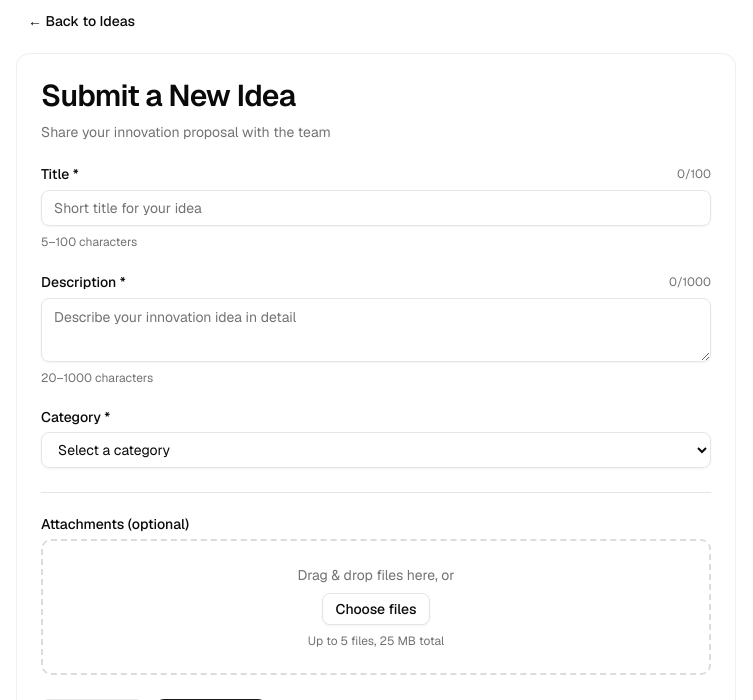
Test: NewIdeaPage dynamic category form › replaces old fields when category is changed
Step 1. Select "Cost Reduction" in the dropdown labelled "Category *" → (376, 450), box [41, 432, 711, 468]
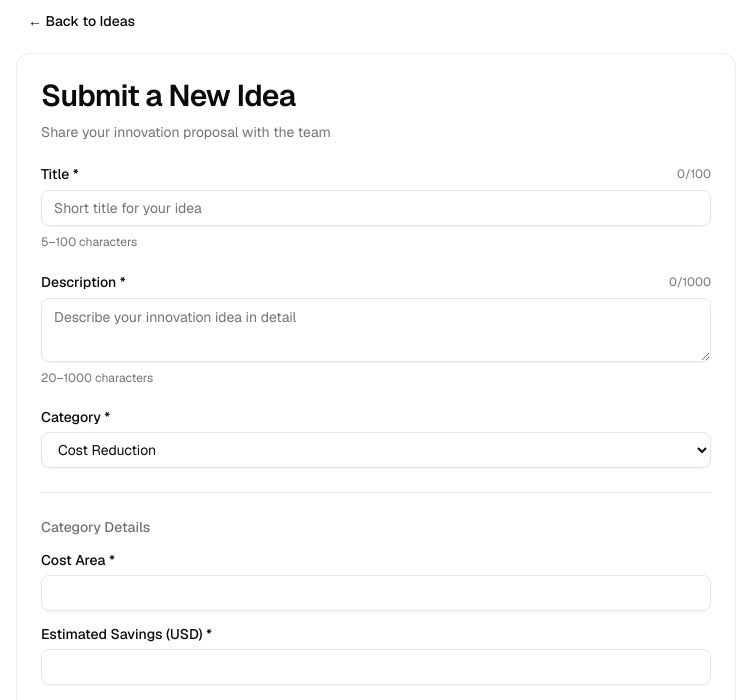
Now the number field labelled "Estimated Savings (USD) *" is shown, box [41, 649, 711, 685]
Step 2. Select "Technology Innovation" in the dropdown labelled "Category *" → (376, 450), box [41, 432, 711, 468]
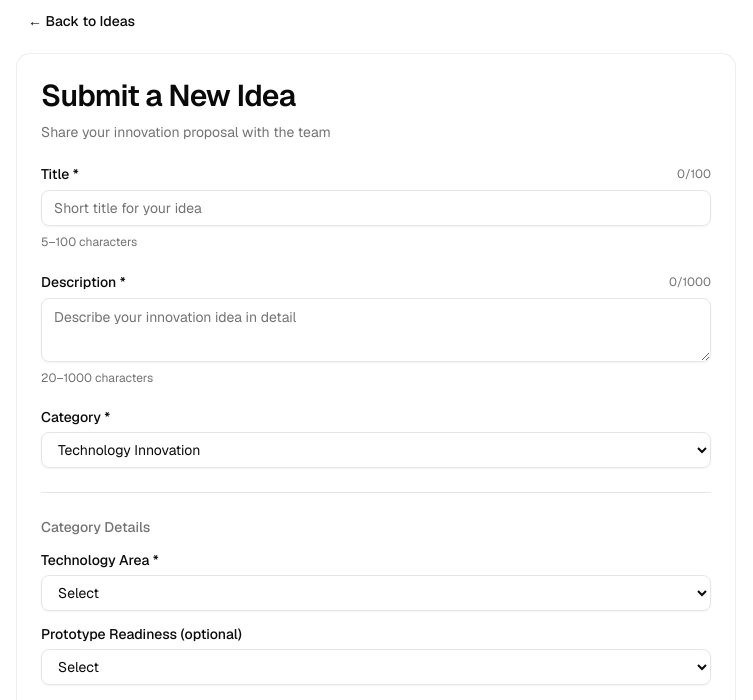
Now the label labelled "Estimated Savings (USD)" is gone
Now the dropdown labelled "Technology Area *" is shown, box [41, 575, 711, 611]
